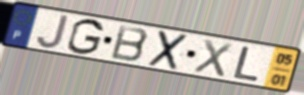B: (109, 23, 151, 64)
G: (65, 18, 106, 57)
J: (35, 13, 71, 50)
L: (231, 45, 262, 83)
X: (146, 29, 191, 72), (191, 37, 234, 79)
